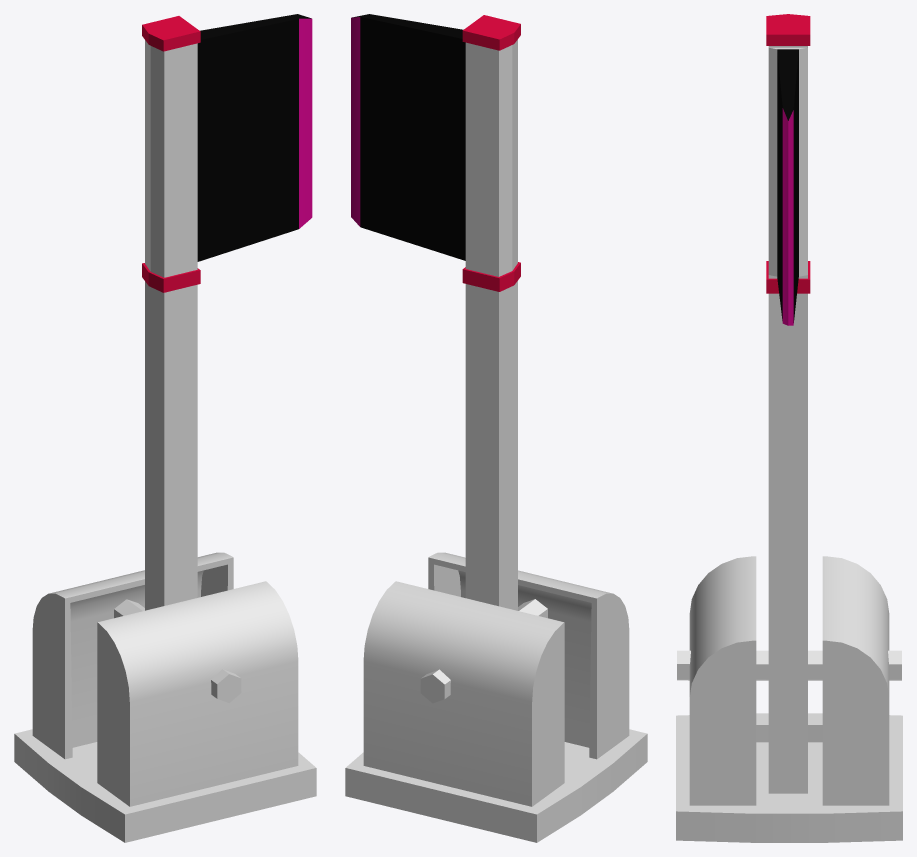
Rendered from Machete.fbx.
The picture shows the model from 3 angles, left to right: view 1: azimuth 30°, elevation 25°; view 2: azimuth 150°, elevation 25°; view 3: azimuth 270°, elevation 25°; orthographic projection. The views are drawn at different scales.
Parts seen in each view (by area): view 1: Cube.080, Cube.082, Cylinder; view 2: Cube.080, Cube.082, Cylinder; view 3: Cube.080, Cube.082, Cylinder.
Boxes of the visible parts, bbox=[...] form: Cube.080: bbox=[14, 552, 316, 842]; Cube.082: bbox=[142, 14, 312, 610]; Cylinder: bbox=[114, 599, 241, 703]; Cube.080: bbox=[345, 552, 647, 842]; Cube.082: bbox=[351, 14, 520, 610]; Cylinder: bbox=[420, 599, 547, 703]; Cube.080: bbox=[676, 556, 902, 842]; Cube.082: bbox=[766, 14, 810, 793]; Cylinder: bbox=[677, 650, 901, 680].
Bounding box in the file's own units: 142 × 413 × 110.
